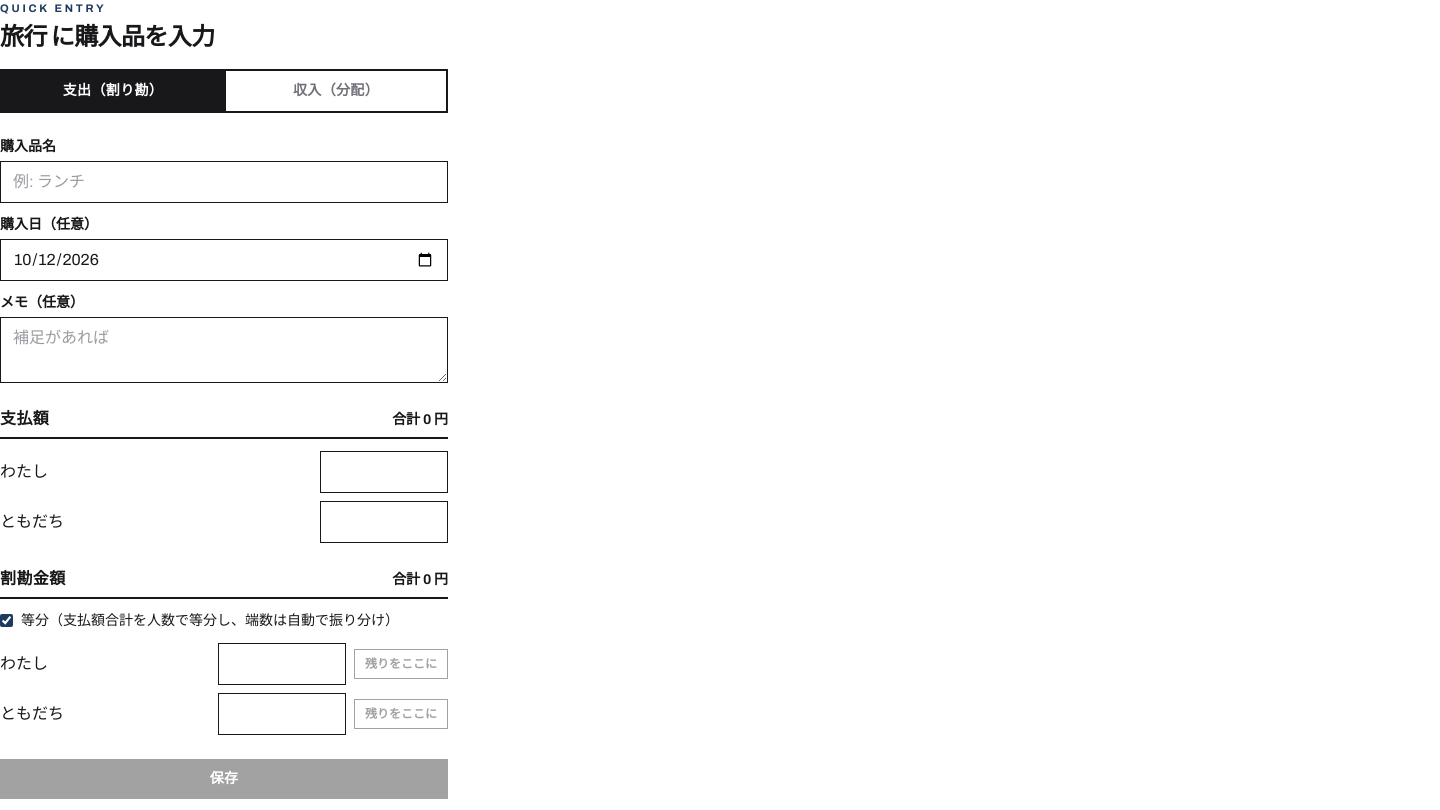
Test case: 同じ購入日（今日）で連続保存すると、重複ヒントが保存後に再取得される
Type "ランチ" into the field labelled "購入品名".
click(224, 182); type("ランチ")  # box [0, 160, 448, 202]
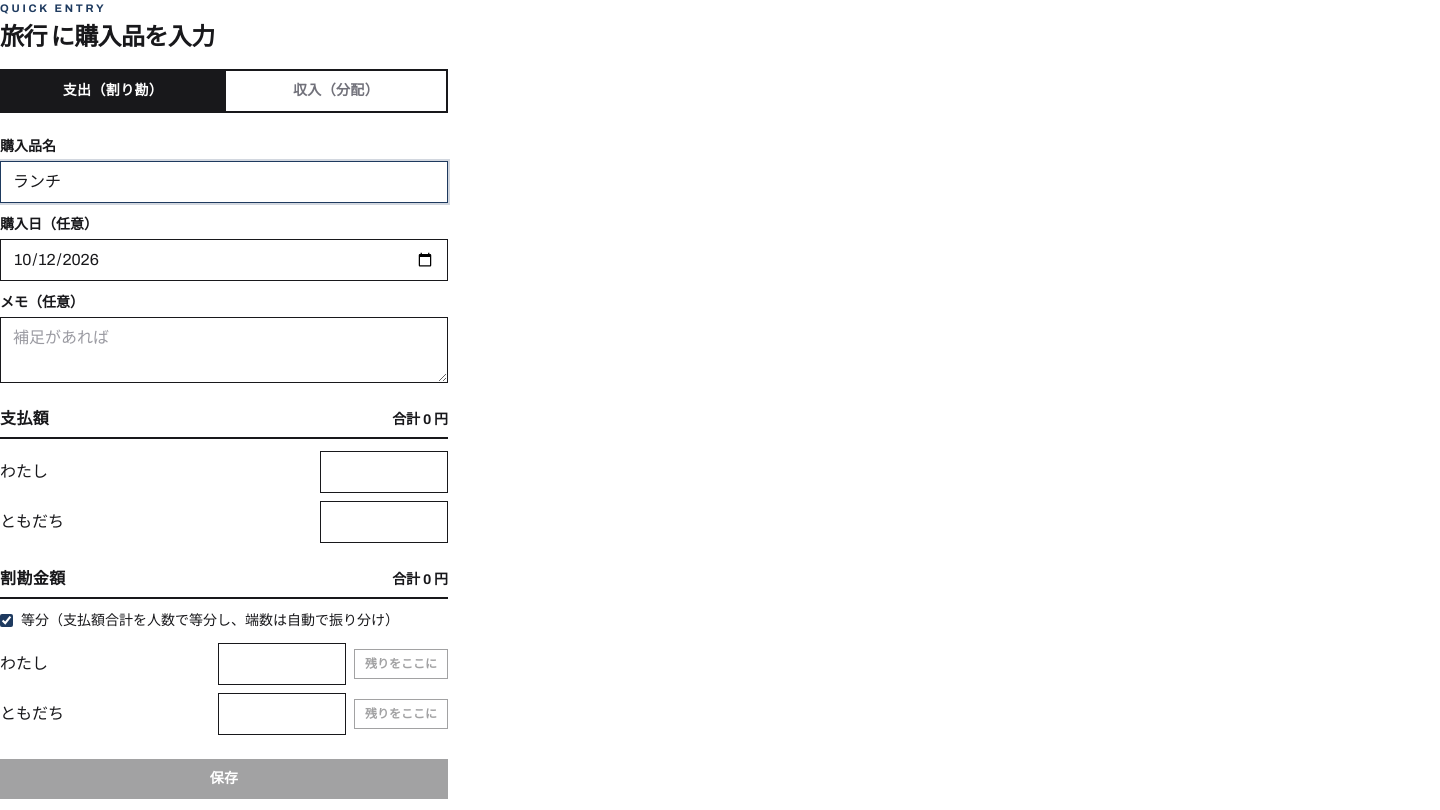
Type "1000" into the number field named "わたし の支払額".
click(384, 472); type("1000")  # box [320, 450, 448, 492]
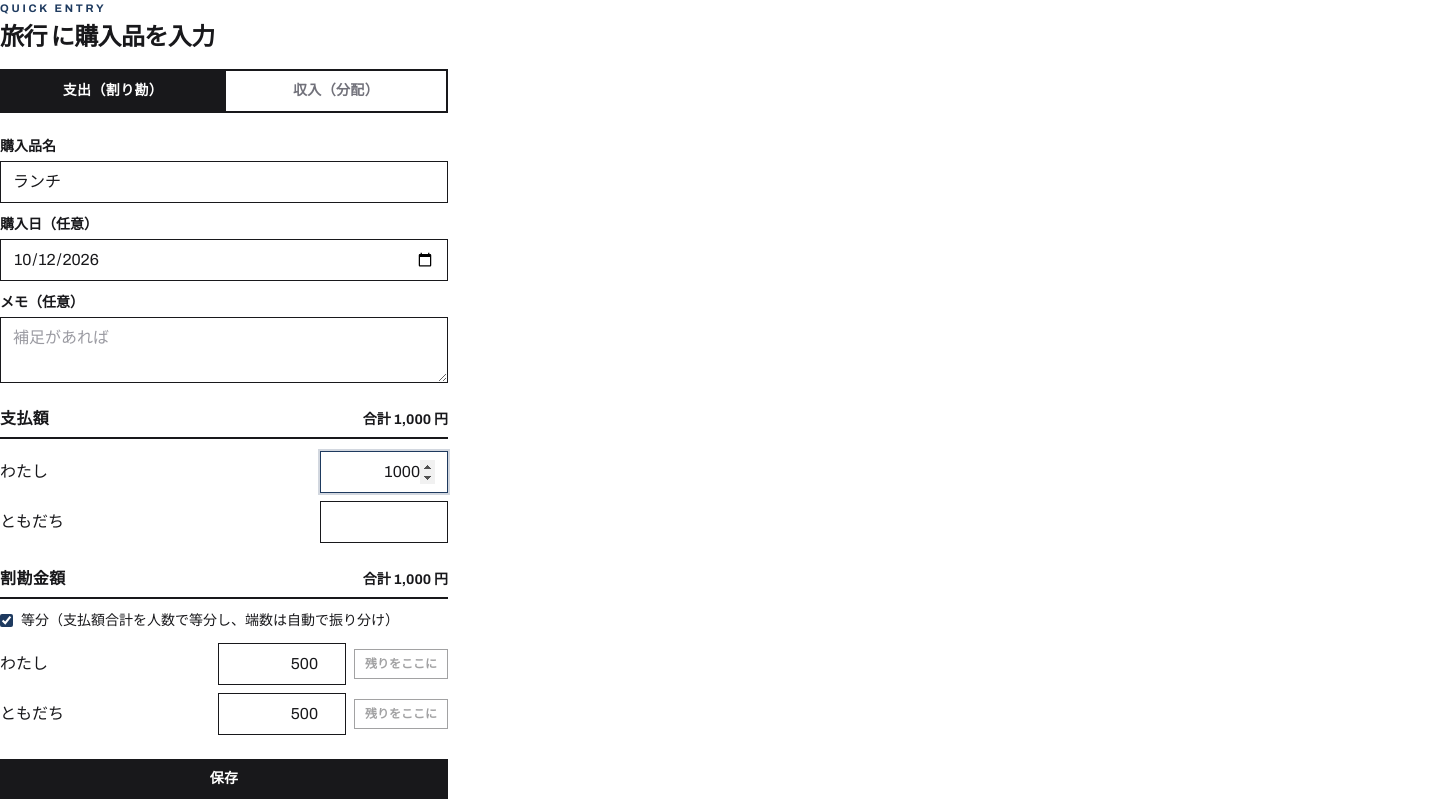
Expected: the text "この日に入力済み" is not shown
Click the button "保存".
click(224, 778)  # box [0, 758, 448, 798]
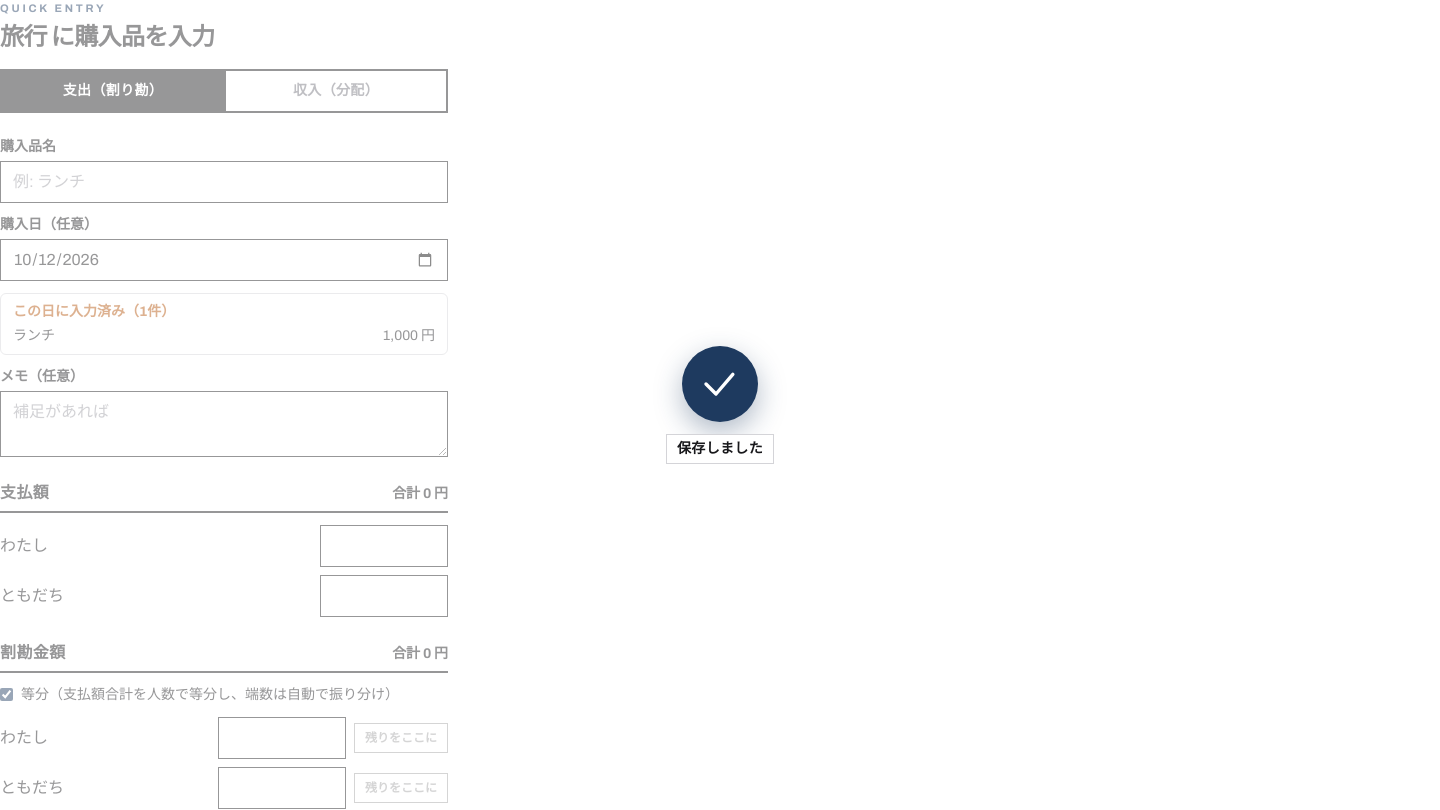
Now the text "この日に入力済み（1件）" is shown, box [13, 304, 175, 318]
